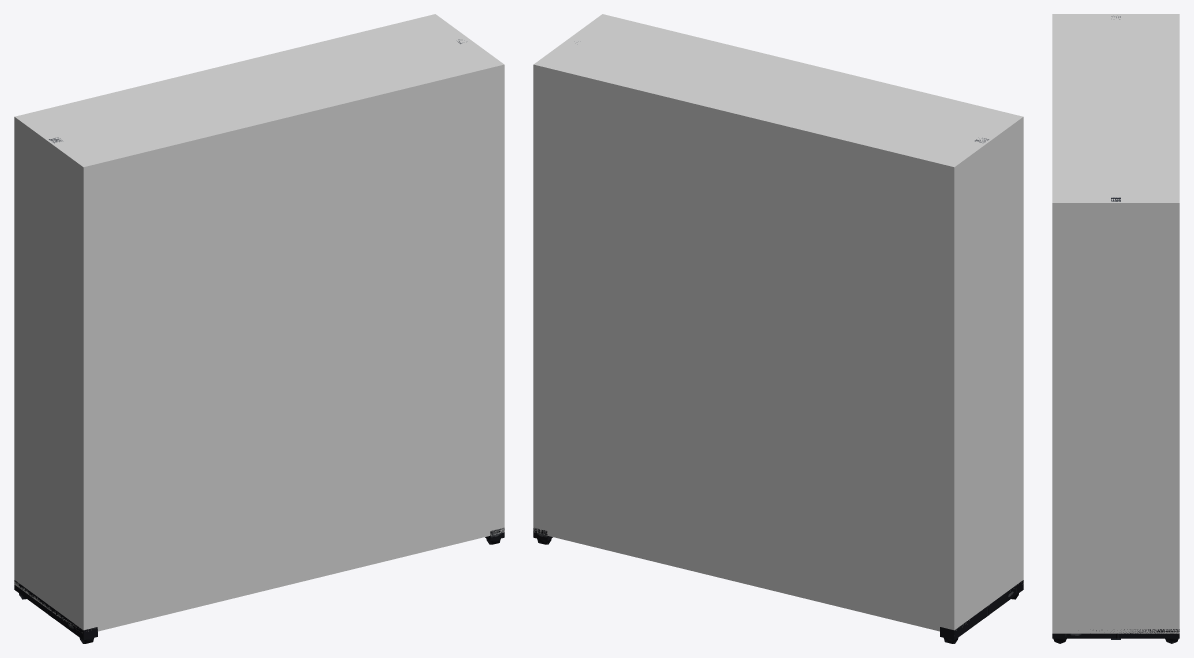
The model's file is Deco_Whiteboard.001.gltf.
The picture shows the model from 3 angles, left to right: view 1: azimuth 30°, elevation 25°; view 2: azimuth 150°, elevation 25°; view 3: azimuth 270°, elevation 25°; orthographic projection. The views are drawn at different scales.
Visible parts, largest first — view 1: Deco_Whiteboard.001_COL, Deco_Whiteboard.001; view 2: Deco_Whiteboard.001_COL, Deco_Whiteboard.001; view 3: Deco_Whiteboard.001_COL, Deco_Whiteboard.001.
Boxes of the visible parts, <box> form: Deco_Whiteboard.001_COL: <box>14,14,504,632</box>; Deco_Whiteboard.001: <box>14,39,504,643</box>; Deco_Whiteboard.001_COL: <box>533,14,1023,631</box>; Deco_Whiteboard.001: <box>533,138,1023,643</box>; Deco_Whiteboard.001_COL: <box>1052,14,1179,633</box>; Deco_Whiteboard.001: <box>1052,16,1179,643</box>.
Bounding box in the file's own units: 1.76 × 1.92 × 0.5.
5 materials, 2 textured.
